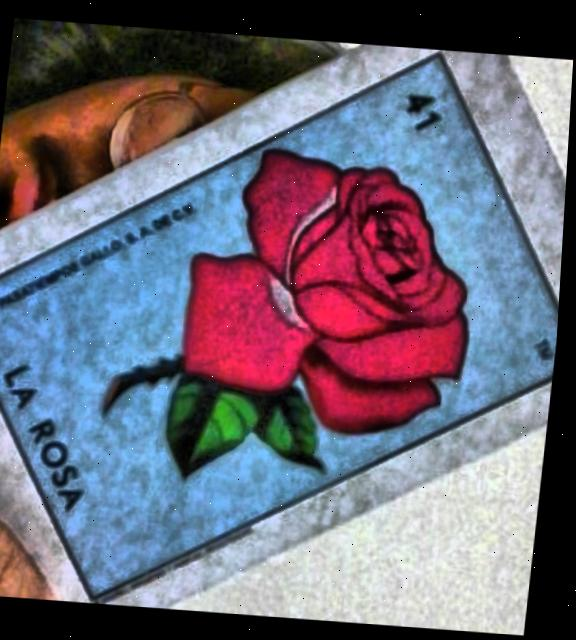La Rosa: (0, 54, 562, 599)
